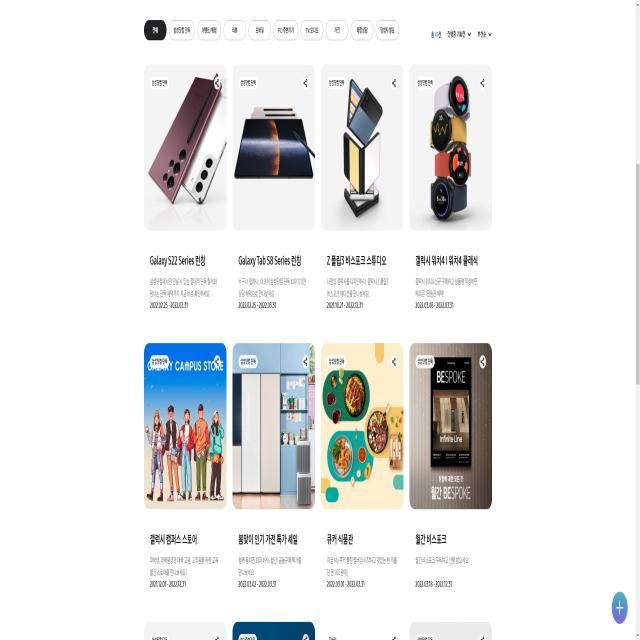tab-bar: (141, 13, 401, 47)
